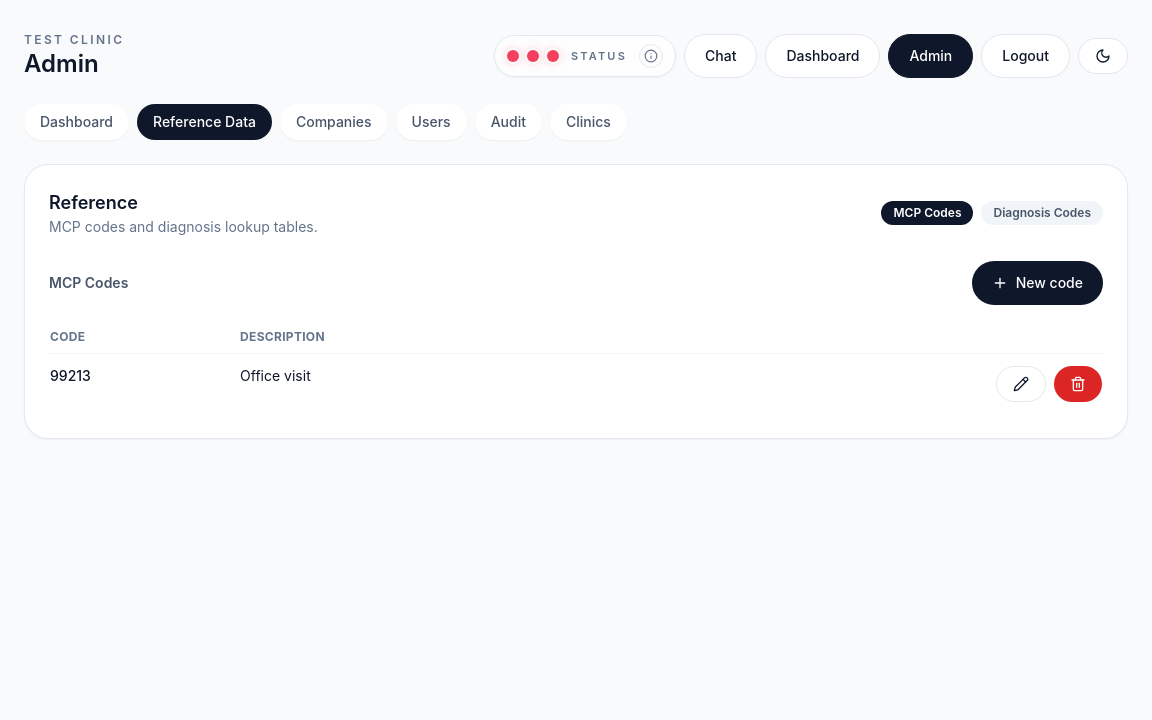
admin ui › companies & policies loads policy links for selected company
The image size is (1152, 720).
Click the button "Companies" at (334, 122), box [280,104,388,140]
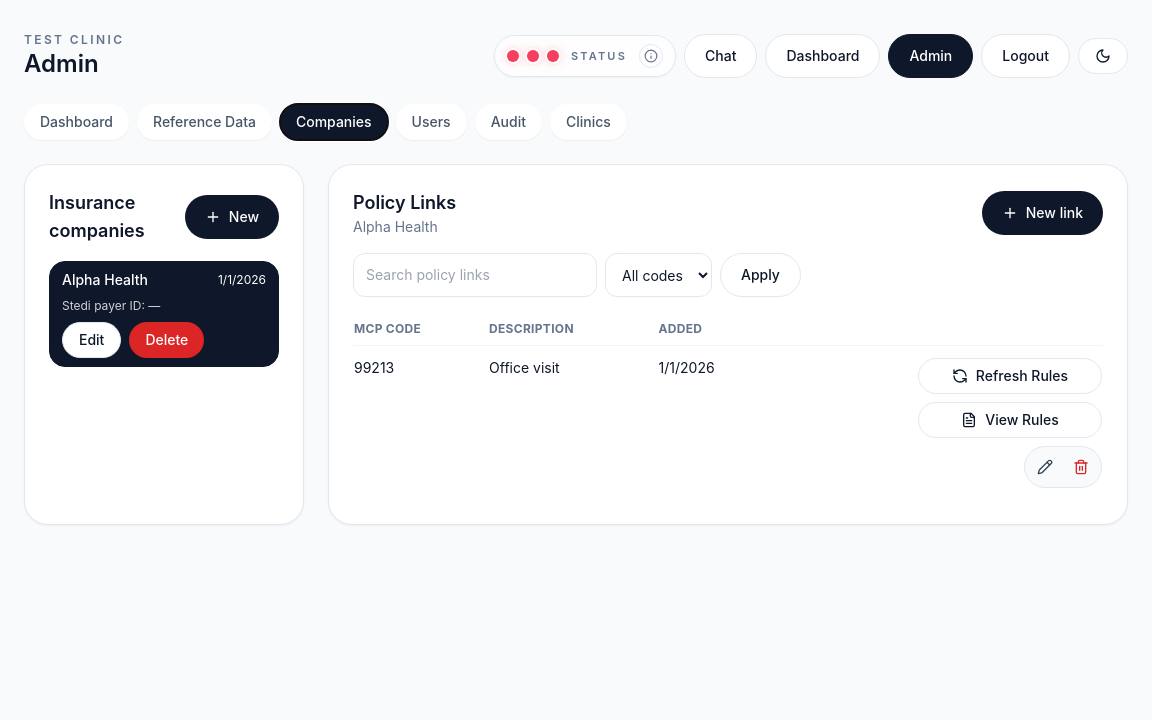
Expected: the text "Office visit" is shown, [488,346,658,500]
Result: the text "Alpha Health" below "Insurance companies" is shown at [62,271,148,288]
